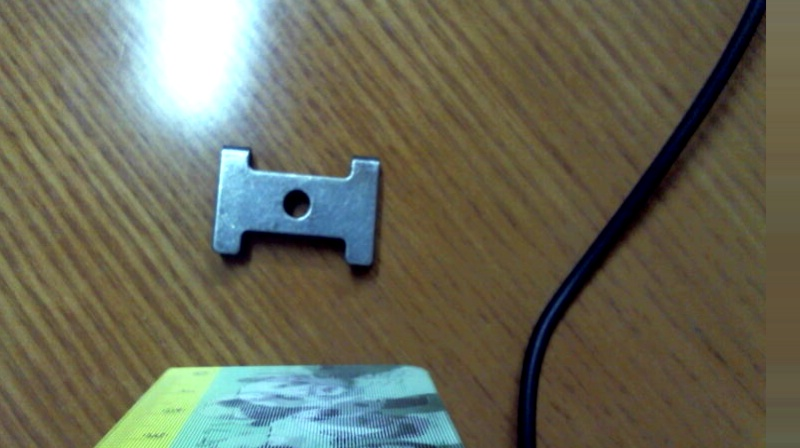O002: (207, 146, 386, 268)
